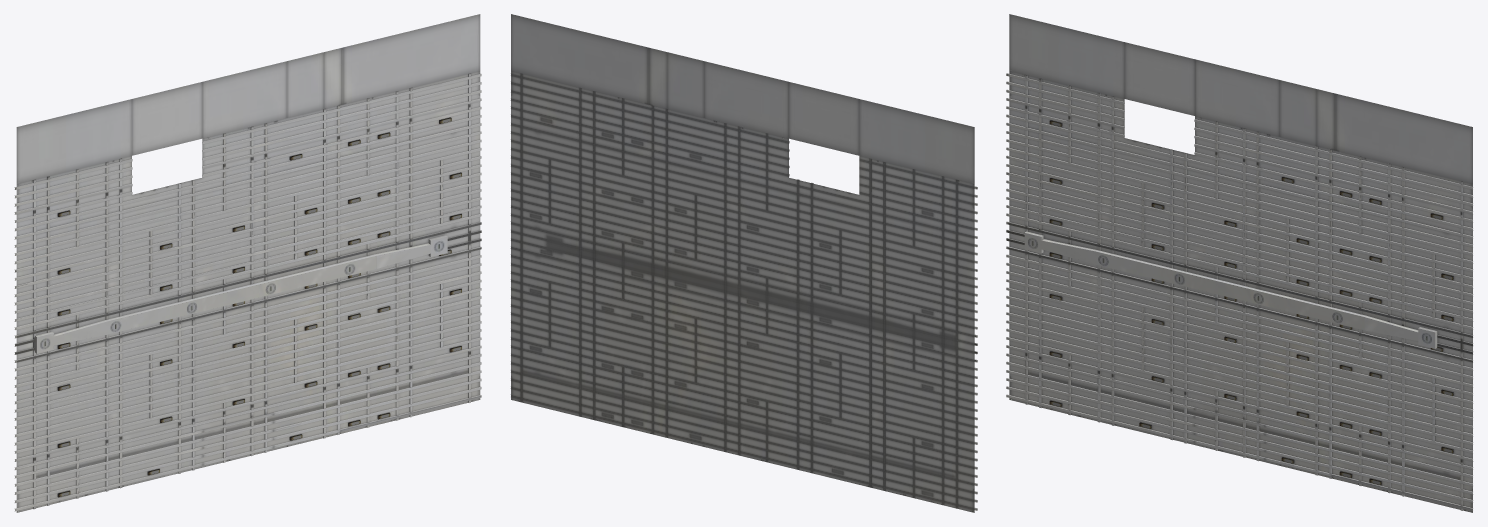
The model's file is PlafondCentre.fbx.
3 views of the same model, side by side, from view 1: azimuth 30°, elevation 25°; view 2: azimuth 150°, elevation 25°; view 3: azimuth 330°, elevation 25° (orthographic).
Visible parts, largest first — view 1: ShapeIndexedFaceSet_005, ShapeIndexedFaceSet_008, ShapeIndexedFaceSet; view 2: ShapeIndexedFaceSet_005, ShapeIndexedFaceSet_008; view 3: ShapeIndexedFaceSet_005, ShapeIndexedFaceSet_008, ShapeIndexedFaceSet.
Boxes of the visible parts, x1,y1,x2,y2 form: ShapeIndexedFaceSet_005: (16,14,480,512); ShapeIndexedFaceSet_008: (14,73,481,511); ShapeIndexedFaceSet: (57,117,461,497); ShapeIndexedFaceSet_005: (511,14,974,512); ShapeIndexedFaceSet_008: (510,73,977,510); ShapeIndexedFaceSet_005: (1009,14,1472,512); ShapeIndexedFaceSet_008: (1006,73,1473,510); ShapeIndexedFaceSet: (1049,120,1453,484).
Bounding box in the file's own units: 43.66 × 34.5 × 0.4058.
